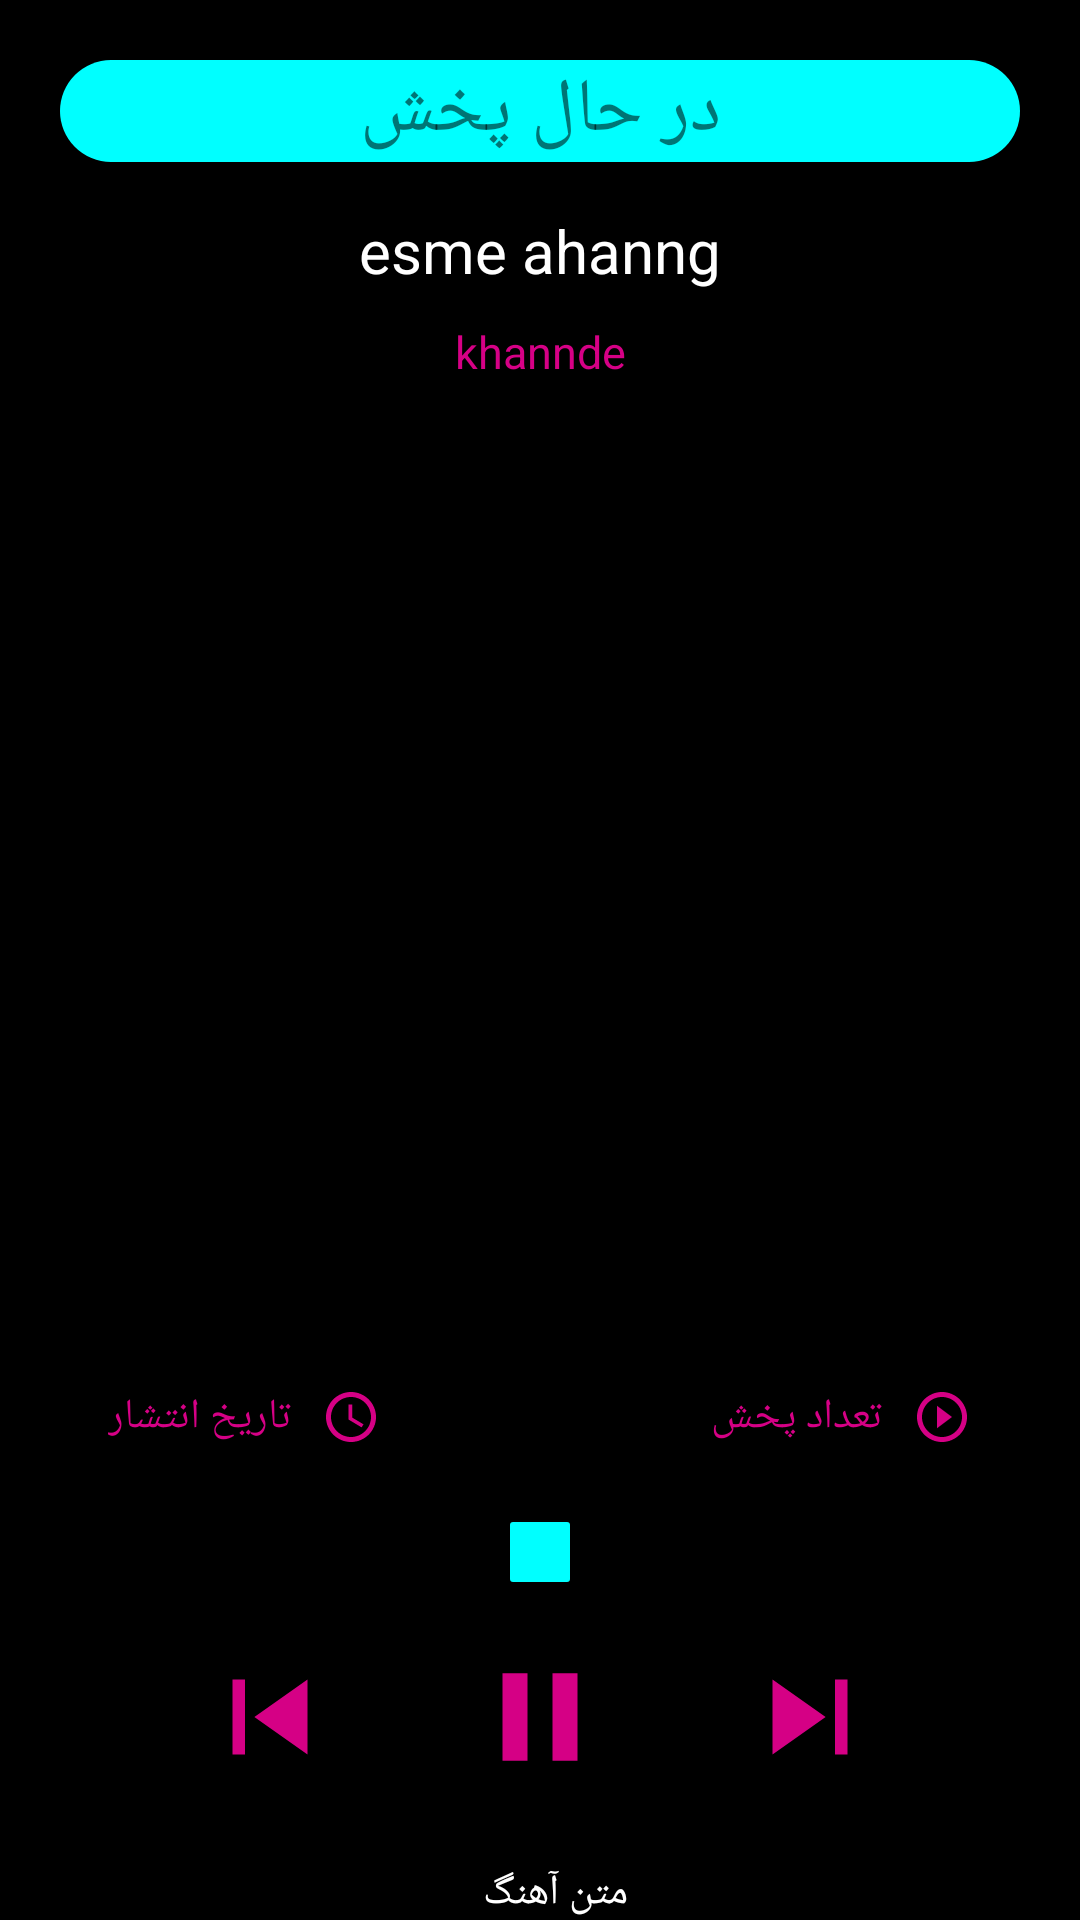

Locate icon controls on the screen. Image size 1080px×1920px, boxes as (x1, y1, x2, y2).
access time: (326, 1392, 376, 1442)
play circle: (917, 1392, 967, 1442)
